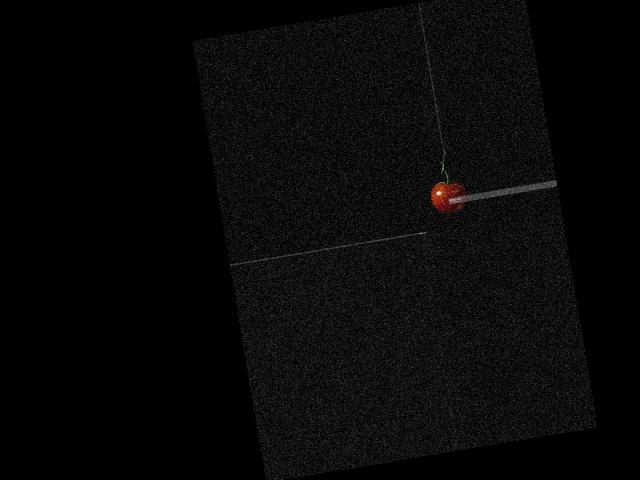tomato: (429, 179, 468, 214)
